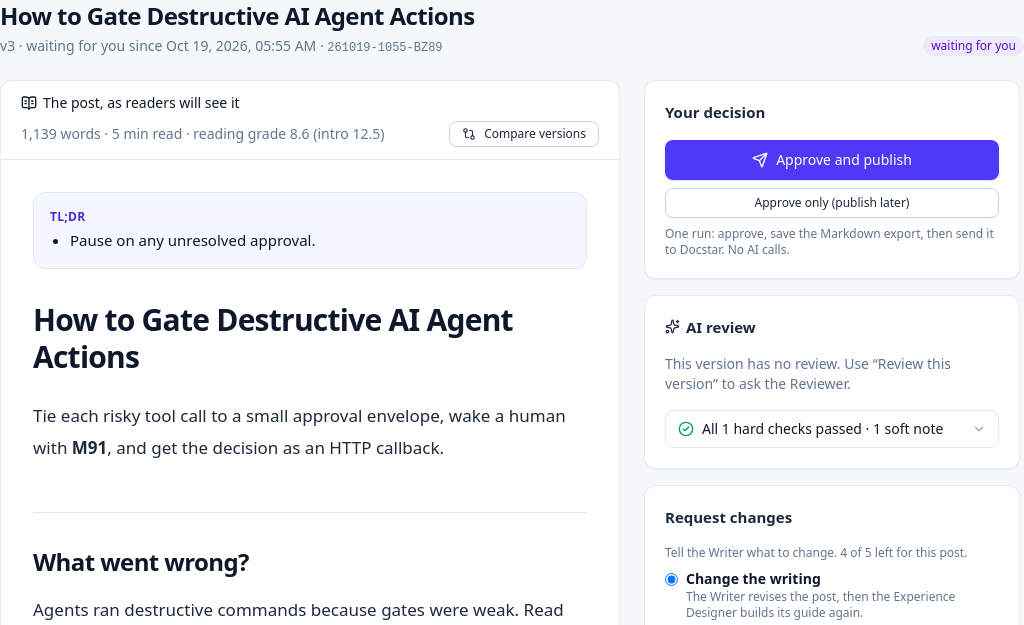
Test: Approve › a 409 from the engine is shown as a clear message
Step 1. Click the button "Approve and publish" → (832, 160), box [665,140,999,180]
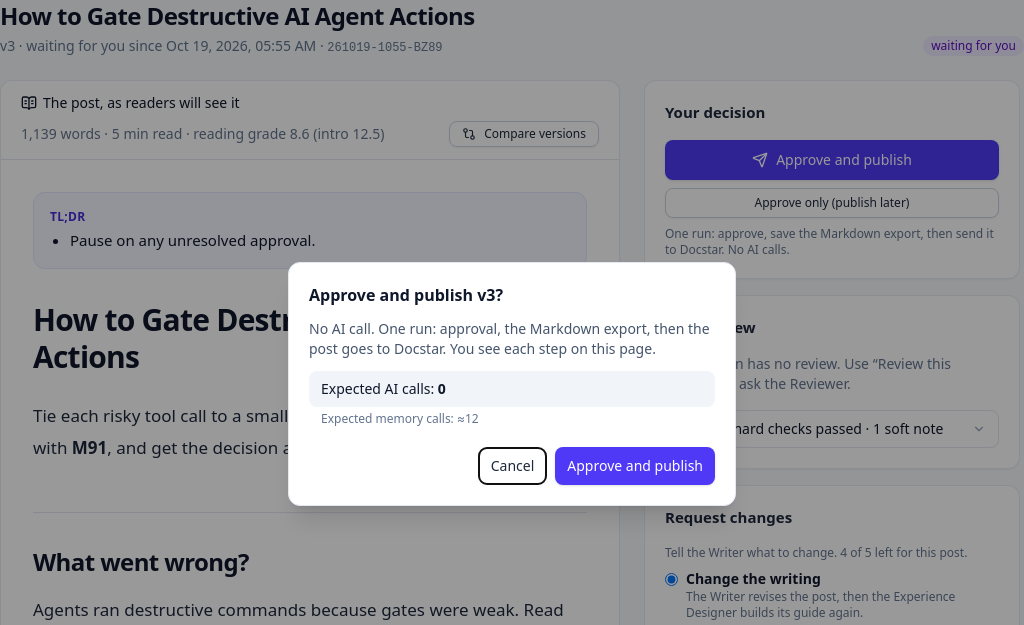
Step 2. Click the button "Approve and publish" → (635, 466), box [555,447,715,485]
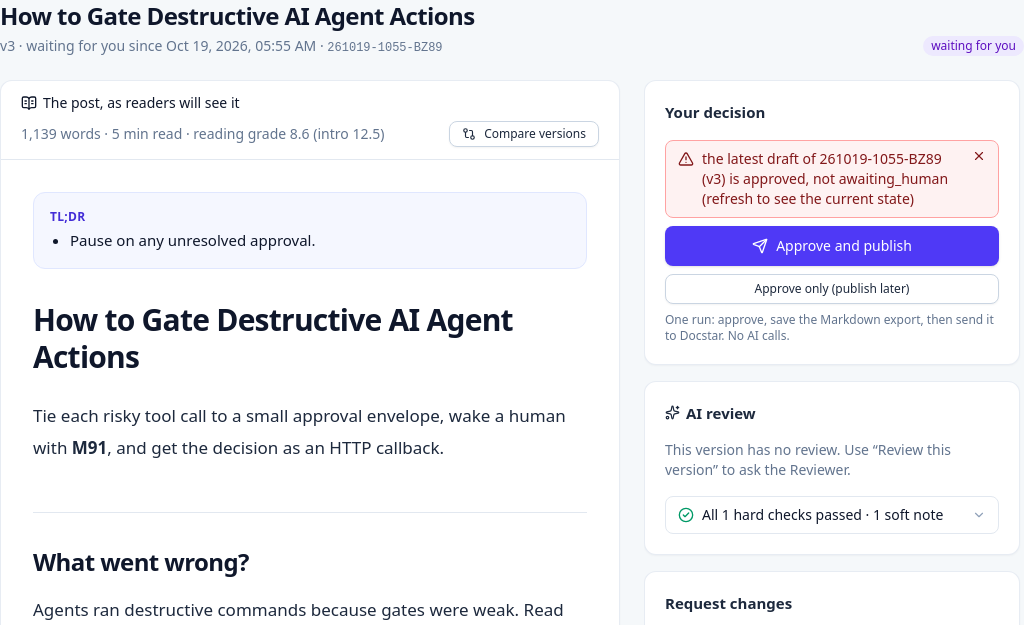
Expected: the message shows "is approved, not awaiting_human (refresh to see the current state)", [702,148,948,208]
